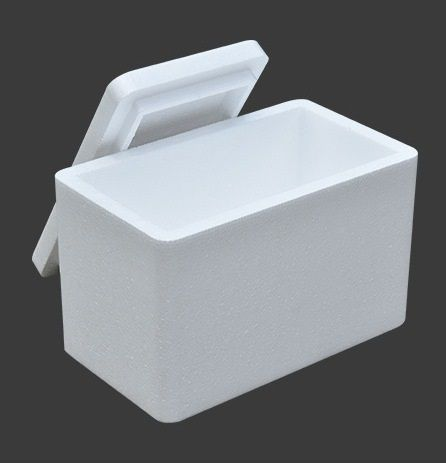Boxes: (33, 42, 416, 422)
